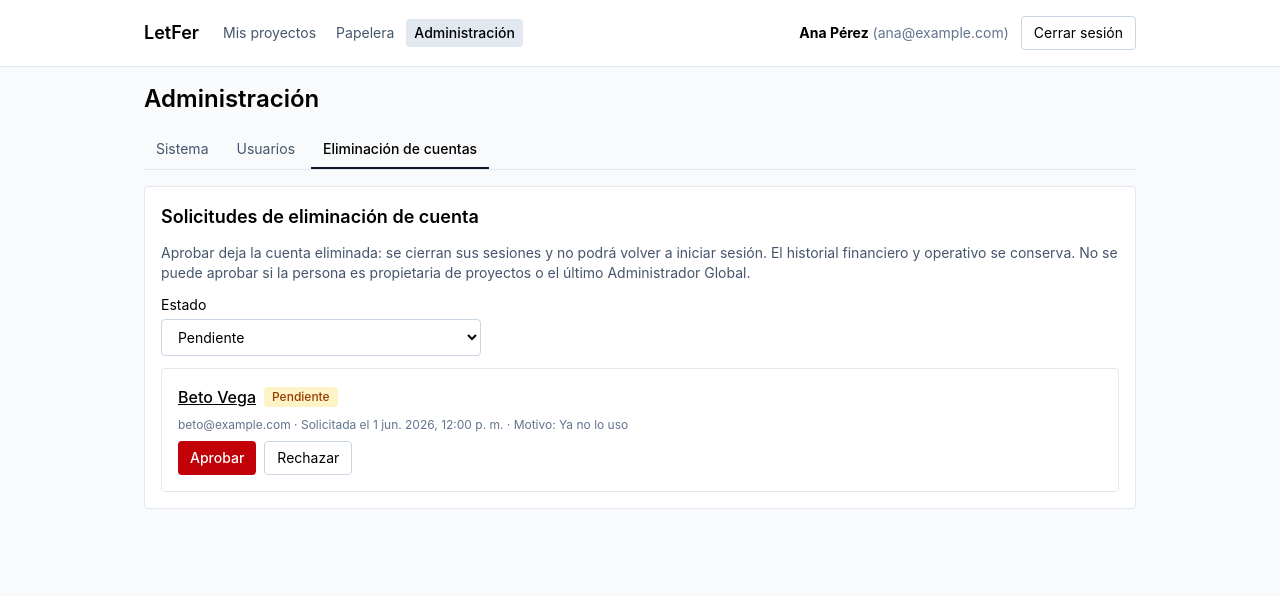
Test: solicitudes de eliminación de cuenta (§8) › rechaza sin pedir la contraseña
This screenshot has width=1280, height=596.
Click the button with aria-label "Rechazar la solicitud de Beto Vega" at (308, 458), box [264,441,352,475]
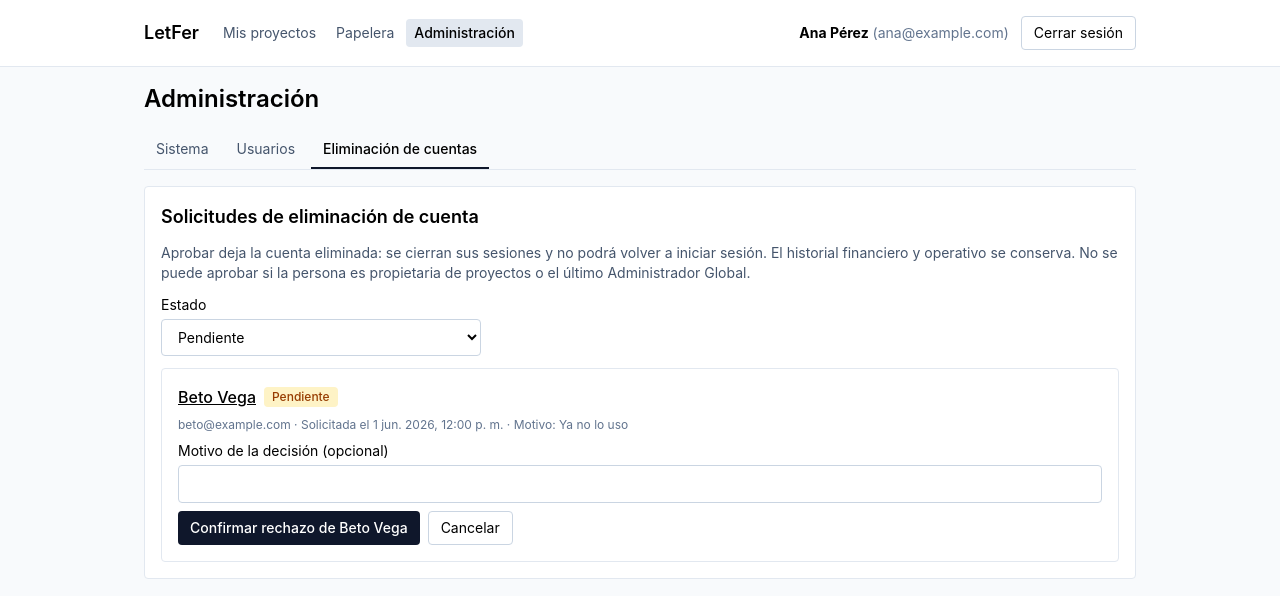
Click the button "Confirmar rechazo de Beto Vega" at (299, 528), box [178,511,420,545]
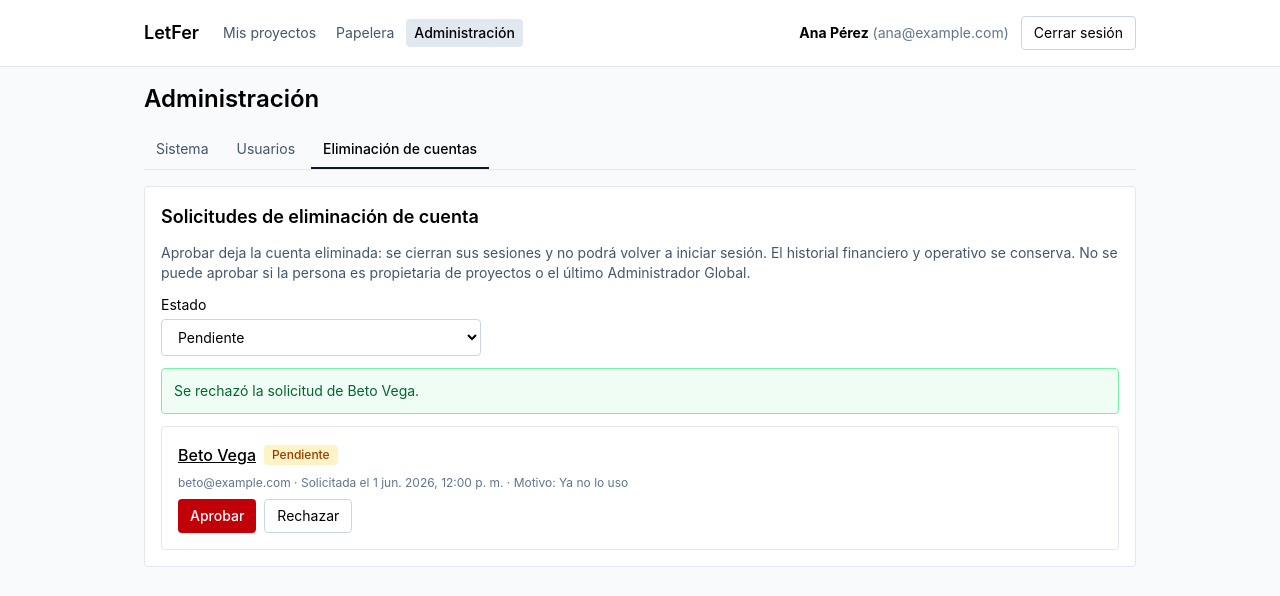
Check: the text "Se rechazó la solicitud de Beto Vega." is shown, box [161,368,1119,414]
